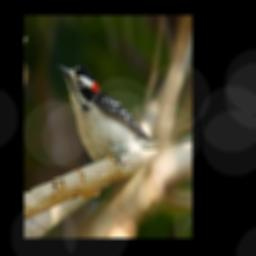Woodpecker: (57, 57, 174, 169)
